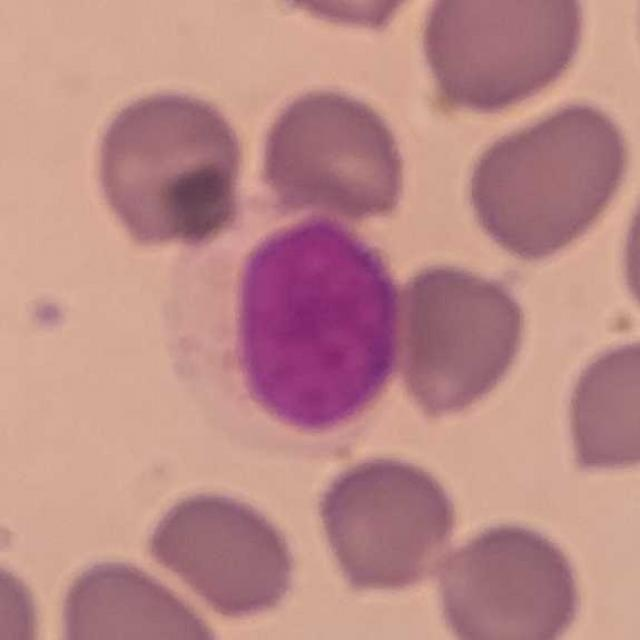Lymphocyte: (155, 208, 409, 462)
RBC: (458, 94, 636, 266), (85, 79, 252, 255), (385, 254, 535, 424), (248, 79, 414, 225), (139, 481, 304, 624), (310, 447, 464, 599), (412, 0, 595, 119), (426, 513, 589, 640), (49, 550, 233, 640), (555, 329, 640, 482), (253, 0, 442, 35), (611, 148, 640, 343), (0, 544, 52, 639)
